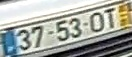3: (16, 28, 32, 50), (68, 16, 83, 38)
5: (54, 18, 70, 42)
7: (30, 24, 44, 48)
O: (88, 11, 105, 32)
T: (102, 7, 116, 29)
